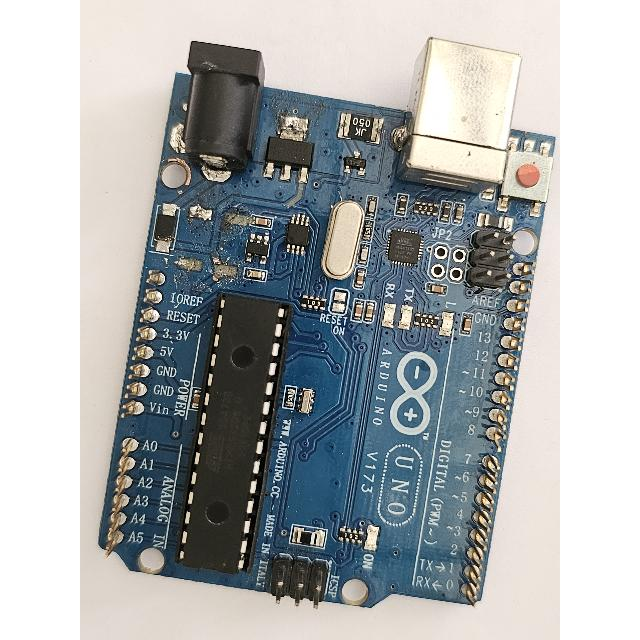missing_analog_pins: (453, 257, 539, 612), (97, 265, 169, 563)
missing_capacitors: (171, 186, 256, 286)
